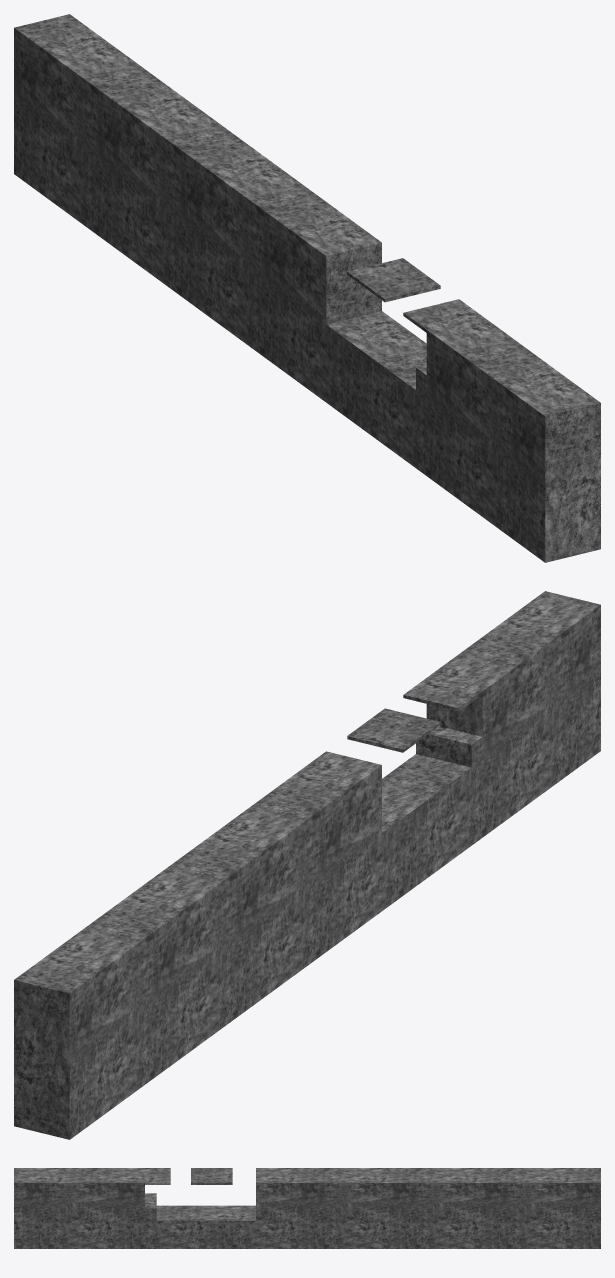
The model's file is Ground.fbx.
3 renders of one model, top to bottom at view 1: azimuth 30°, elevation 25°; view 2: azimuth 150°, elevation 25°; view 3: azimuth 270°, elevation 25°, orthographic. The views are drawn at different scales.
Visible parts, largest first — view 1: Ground; view 2: Ground; view 3: Ground.
Boxes of the visible parts, bbox=[...] form: Ground: bbox=[14, 14, 600, 562]; Ground: bbox=[14, 591, 600, 1139]; Ground: bbox=[14, 1168, 600, 1248].
Bounding box in the file's own units: 1795 × 4500 × 29600.
Materials: 1 (1 with a texture image).
